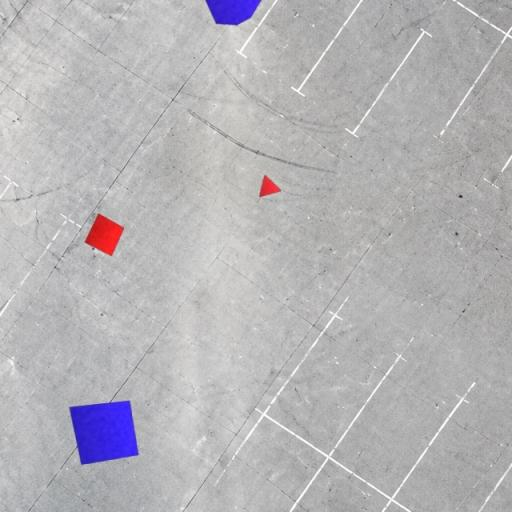BLUE_SQUARE: (69, 399, 139, 466)
RED_SQUARE: (84, 213, 125, 257)
